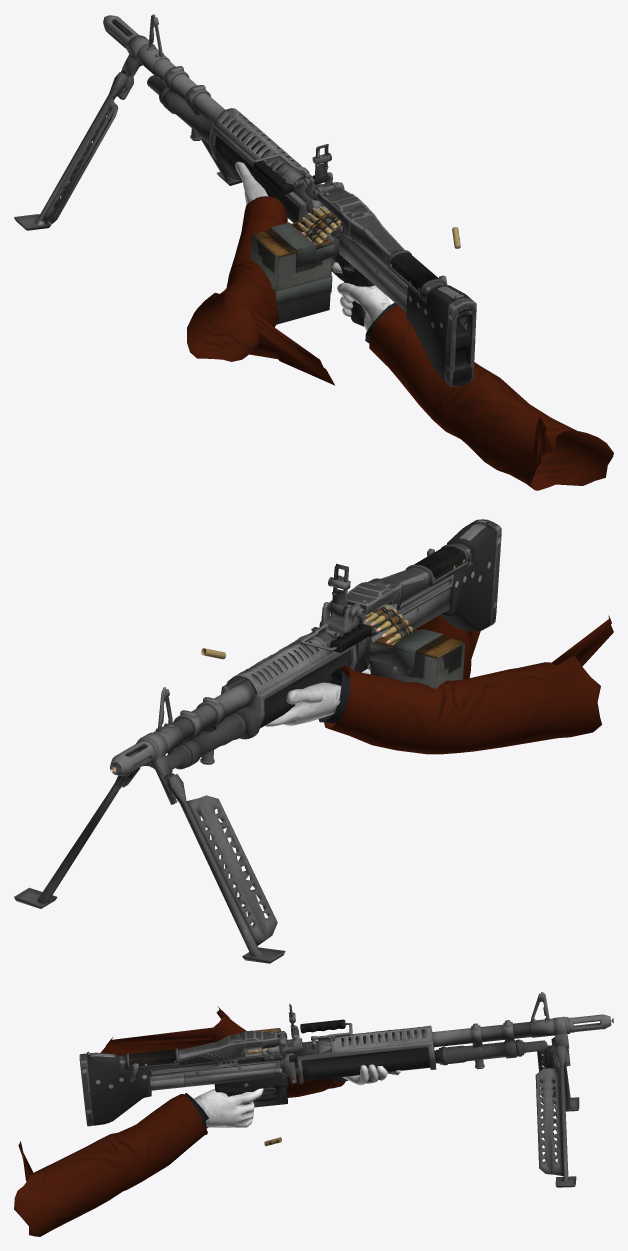
Rendered from frame_11.obj.
3 views of the same model, one above another, from view 1: azimuth 30°, elevation 25°; view 2: azimuth 150°, elevation 25°; view 3: azimuth 270°, elevation 25° (orthographic). The views are drawn at different scales.
Parts seen in each view (by area): view 1: Mesh.005, PlayerModelMerged.001_PlayerModelMerged, Mesh.001; view 2: Mesh.005, PlayerModelMerged.001_PlayerModelMerged, Mesh.001; view 3: Mesh.005, PlayerModelMerged.001_PlayerModelMerged.
Boxes of the visible parts, box(x1,y1,x2,y2) form: Mesh.005: box(14, 14, 476, 386); PlayerModelMerged.001_PlayerModelMerged: box(187, 161, 613, 490); Mesh.001: box(298, 205, 340, 244); Mesh.005: box(14, 519, 501, 963); PlayerModelMerged.001_PlayerModelMerged: box(265, 615, 613, 754); Mesh.001: box(366, 606, 412, 643); Mesh.005: box(79, 992, 611, 1187); PlayerModelMerged.001_PlayerModelMerged: box(14, 1006, 400, 1236).
Bounding box in the file's own units: 0.9933 × 0.8073 × 2.14.
